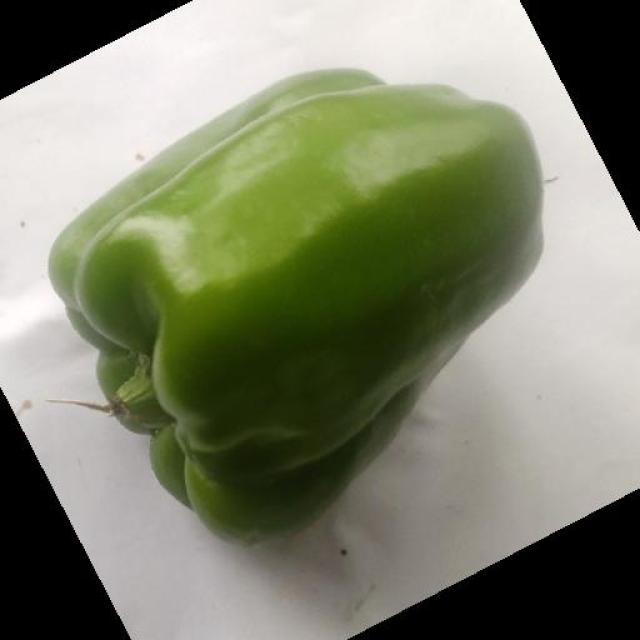Fresh_Capsicum: (70, 82, 555, 499)
